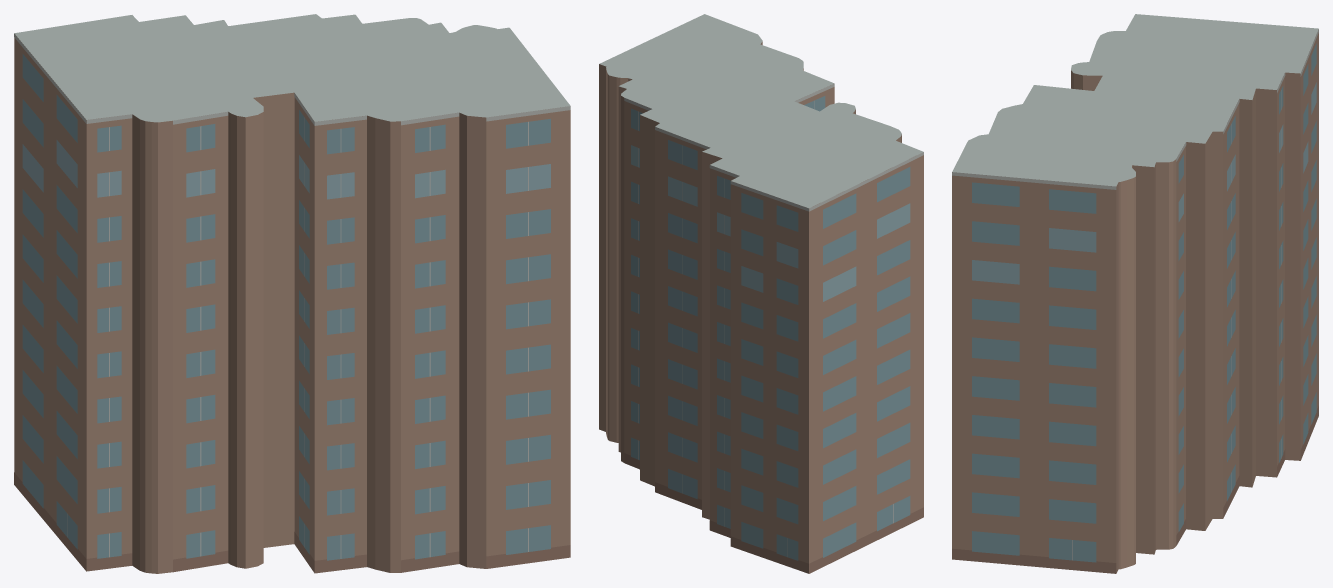
Rendered from survey-upis-33013918.glb.
3 views of the same model, side by side, from view 1: azimuth 30°, elevation 25°; view 2: azimuth 150°, elevation 25°; view 3: azimuth 270°, elevation 25° (orthographic). The views are drawn at different scales.
Visible parts, largest first — view 1: survey-upis-33013918.tmp; view 2: survey-upis-33013918.tmp; view 3: survey-upis-33013918.tmp.
Boxes of the visible parts, left/top/right/bottom form: survey-upis-33013918.tmp: left=14, top=14, right=570, bottom=573; survey-upis-33013918.tmp: left=599, top=14, right=923, bottom=573; survey-upis-33013918.tmp: left=952, top=14, right=1318, bottom=573.
Bounding box in the file's own units: 26.18 × 27.4 × 23.52.
